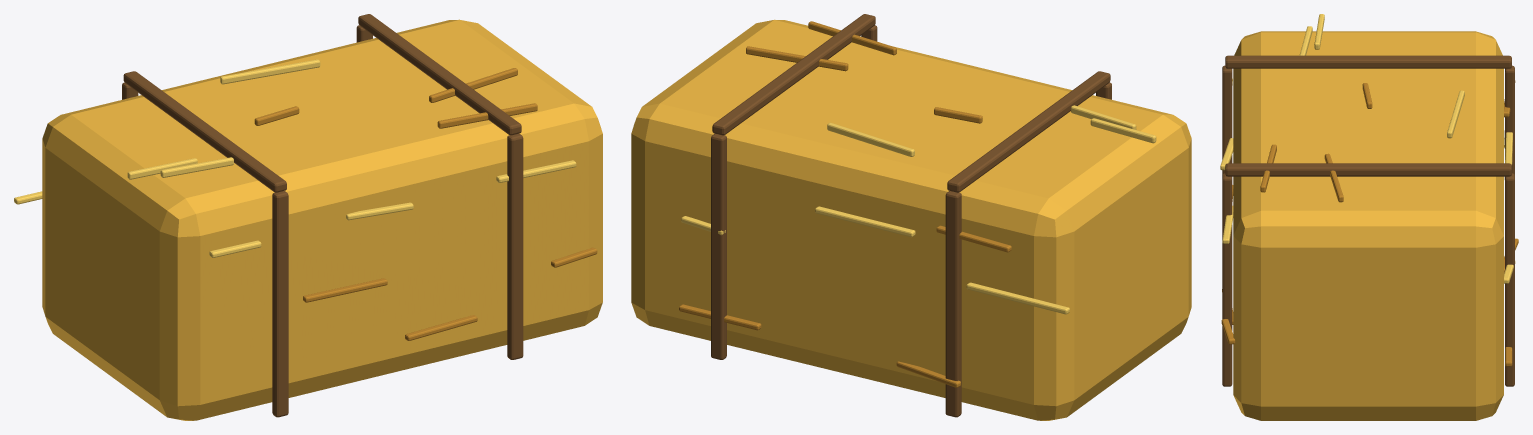
Rendered from FTF_Nature_HayBale_Small_1_2m.glb.
3 views of the same model, side by side, from view 1: azimuth 30°, elevation 25°; view 2: azimuth 150°, elevation 25°; view 3: azimuth 270°, elevation 25° (orthographic). The views are drawn at different scales.
Visible parts, largest first — view 1: HayBale_Body, HayBale_TwineFront_0, HayBale_TwineFront_1, HayBale_TwineTop_0, HayBale_TwineTop_1, HayBale_Straw_08, HayBale_Straw_11, HayBale_Straw_03, HayBale_Straw_17, HayBale_Straw_02, HayBale_Straw_09; view 2: HayBale_Body, HayBale_TwineBack_0, HayBale_TwineBack_1, HayBale_TwineTop_0, HayBale_TwineTop_1, HayBale_Straw_16, HayBale_Straw_10, HayBale_Straw_08, HayBale_Straw_17, HayBale_Straw_11, HayBale_Straw_14, HayBale_Straw_13 (+1 smaller); view 3: HayBale_Body, HayBale_TwineTop_0, HayBale_TwineTop_1, HayBale_TwineFront_1, HayBale_TwineBack_1, HayBale_TwineFront_0, HayBale_TwineBack_0, HayBale_Straw_08, HayBale_Straw_17, HayBale_Straw_11.
Part boxes in pixels (x1=…): HayBale_Body: x1=42, y1=19, x2=602, y2=420; HayBale_TwineFront_0: x1=272, y1=191, x2=288, y2=417; HayBale_TwineFront_1: x1=507, y1=133, x2=523, y2=359; HayBale_TwineTop_0: x1=123, y1=71, x2=286, y2=192; HayBale_TwineTop_1: x1=358, y1=14, x2=521, y2=135; HayBale_Straw_08: x1=220, y1=59, x2=320, y2=84; HayBale_Straw_11: x1=437, y1=103, x2=537, y2=128; HayBale_Straw_03: x1=303, y1=278, x2=387, y2=302; HayBale_Straw_17: x1=429, y1=68, x2=517, y2=102; HayBale_Straw_02: x1=160, y1=157, x2=233, y2=177; HayBale_Straw_09: x1=405, y1=315, x2=477, y2=340; HayBale_Body: x1=631, y1=19, x2=1191, y2=420; HayBale_TwineBack_0: x1=945, y1=191, x2=961, y2=417; HayBale_TwineBack_1: x1=711, y1=133, x2=726, y2=359; HayBale_TwineTop_0: x1=947, y1=71, x2=1110, y2=192; HayBale_TwineTop_1: x1=712, y1=14, x2=875, y2=135; HayBale_Straw_16: x1=966, y1=282, x2=1069, y2=314; HayBale_Straw_10: x1=815, y1=206, x2=915, y2=237; HayBale_Straw_08: x1=827, y1=122, x2=914, y2=156; HayBale_Straw_17: x1=746, y1=46, x2=848, y2=71; HayBale_Straw_11: x1=808, y1=21, x2=896, y2=55; HayBale_Straw_14: x1=1090, y1=118, x2=1156, y2=143; HayBale_Straw_13: x1=679, y1=304, x2=761, y2=330; HayBale_Body: x1=1233, y1=31, x2=1503, y2=420; HayBale_TwineTop_0: x1=1225, y1=55, x2=1511, y2=68; HayBale_TwineTop_1: x1=1225, y1=163, x2=1511, y2=176; HayBale_TwineFront_1: x1=1222, y1=173, x2=1232, y2=386; HayBale_TwineBack_1: x1=1505, y1=173, x2=1514, y2=386; HayBale_TwineFront_0: x1=1222, y1=65, x2=1232, y2=174; HayBale_TwineBack_0: x1=1505, y1=65, x2=1514, y2=174; HayBale_Straw_08: x1=1447, y1=90, x2=1464, y2=138; HayBale_Straw_17: x1=1324, y1=153, x2=1343, y2=202; HayBale_Straw_11: x1=1260, y1=144, x2=1276, y2=192.
Size of the model in its own units: 1.23 by 0.6075 by 0.7498.
